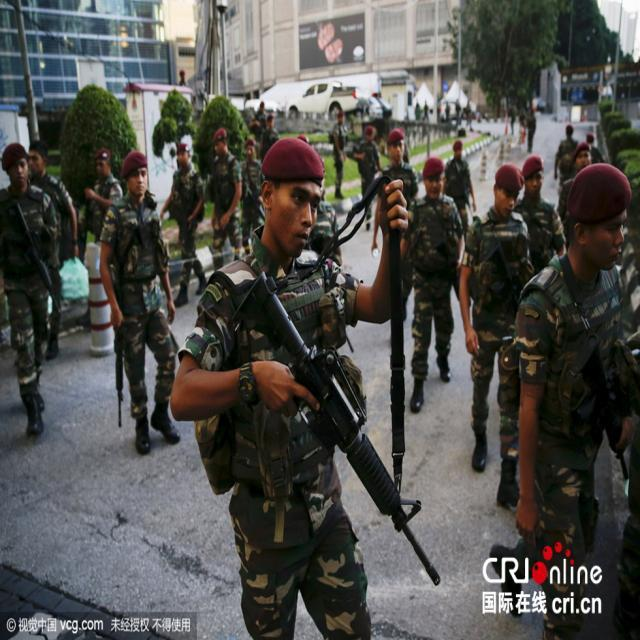m16: (213, 243, 452, 600)
